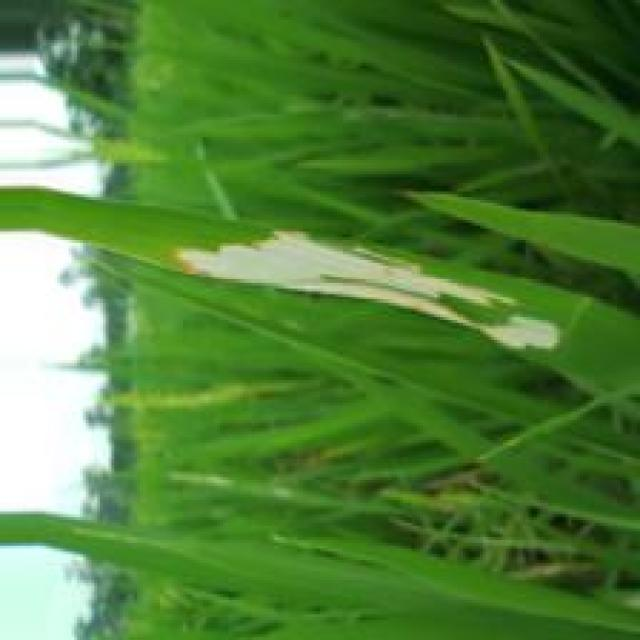Rice_Hispa: (170, 230, 563, 350)
